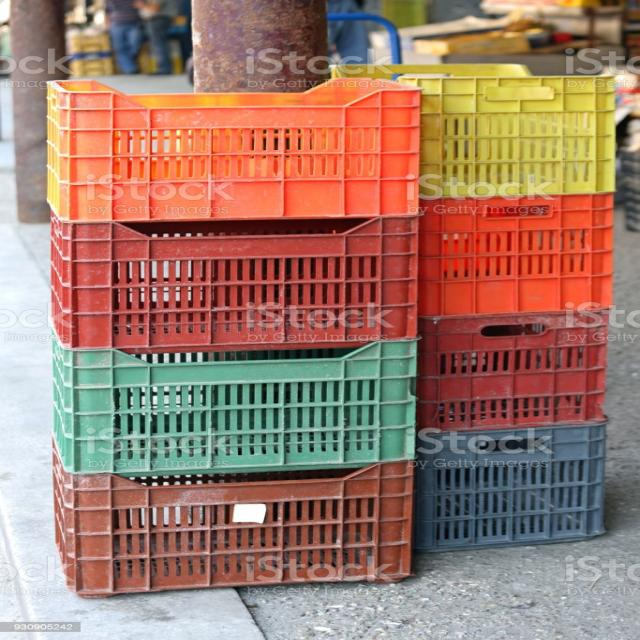basket: (49, 451, 413, 607), (46, 76, 422, 222), (52, 341, 417, 478), (51, 215, 418, 351), (407, 418, 613, 554), (399, 75, 616, 196), (415, 193, 618, 317), (414, 308, 612, 433)
